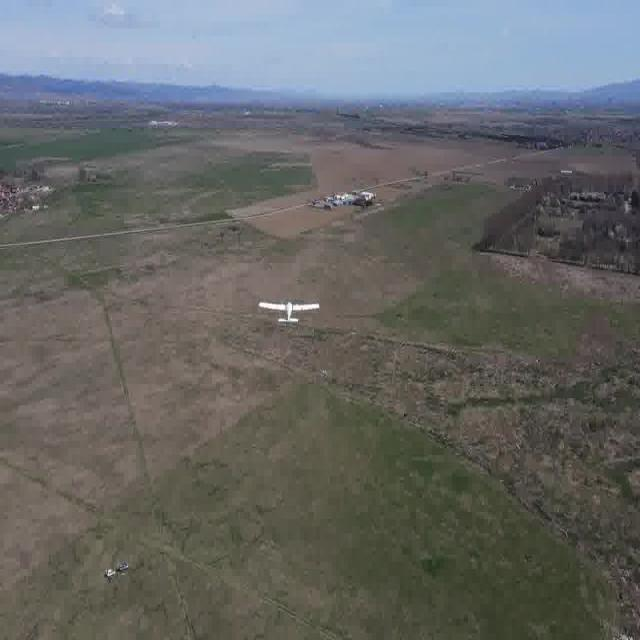iha: (287, 290, 290, 334)
